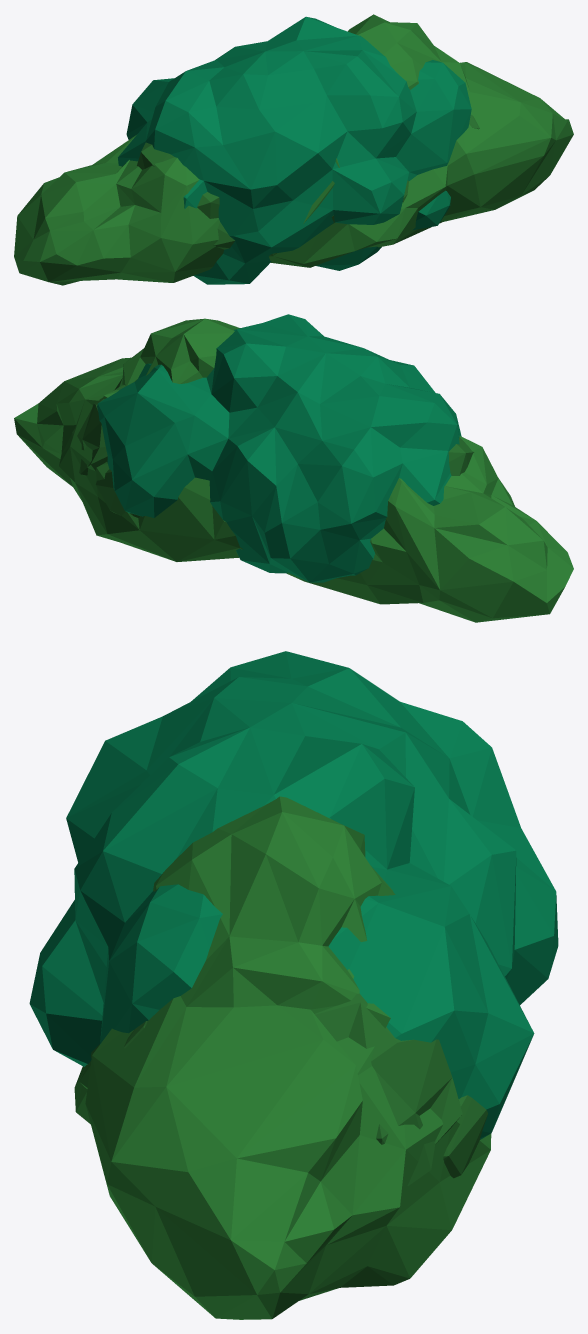
The model's file is bushes.fbx.
3 renders of one model, top to bottom at view 1: azimuth 30°, elevation 25°; view 2: azimuth 150°, elevation 25°; view 3: azimuth 270°, elevation 25°, orthographic. The views are drawn at different scales.
Parts seen in each view (by area): view 1: bush1, bush3, bush4; view 2: bush1, bush3, bush4; view 3: bush1, bush3, bush4.
Part boxes in pixels (x1,y1,x2,y2): bush1: (118,16,471,284); bush3: (14,14,573,285); bush4: (137,114,479,249); bush1: (97,314,461,582); bush3: (14,318,573,622); bush4: (72,378,474,517); bush1: (29,651,558,1139); bush3: (74,796,491,1319); bush4: (91,993,487,1186).
Bounding box in the file's own units: 279 × 112 × 120.
